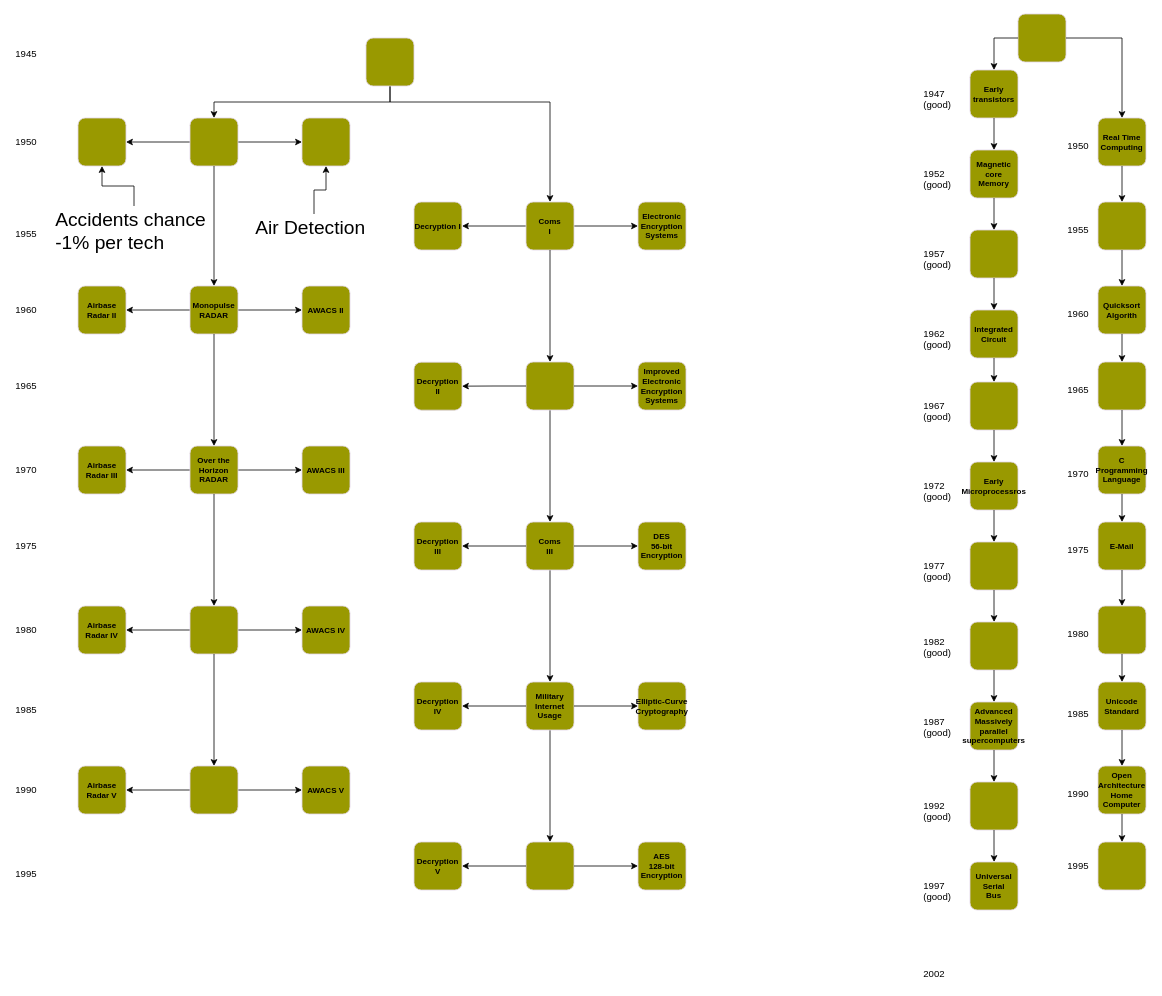
The diagram is 1162 pixels wide and 996 high, and some of its shapes have lost their labels. The centre of each missing label's shape, as x and y in pixels:
"3 1/2-inch Floppy" goes at (1121,629).
"64-bit Computing" goes at (993,805).
"Airbase Radar I" goes at (101,141).
"AWACS I" goes at (325,141).
"Computer Aided Drawing" goes at (1121,385).
"Coms II" goes at (549,385).
"Coms V" goes at (549,865).
"Digital Computer-RADAR Integration" goes at (213,629).
"Doppler Beam Sharpening" goes at (213,141).
"Early Hard Disk" goes at (993,253).
"Early Massively parallel supercomputing" goes at (993,565).
"High level programming languages" goes at (1121,225).
"Java Programming Language" goes at (1121,865).
"Packet Switching Network" goes at (993,405).
"Portable Computers" goes at (993,645).
"Theater-wide RADAR Integration" goes at (213,789).
"WW2 Computing" goes at (1041,37).
"WW2 radio technology" goes at (389,61).
